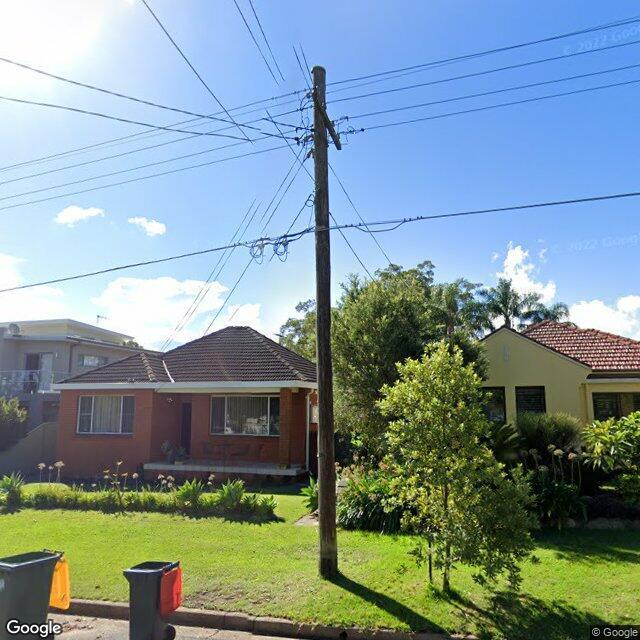crossarm: (309, 92, 342, 150)
timber-pole: (312, 67, 339, 580)
